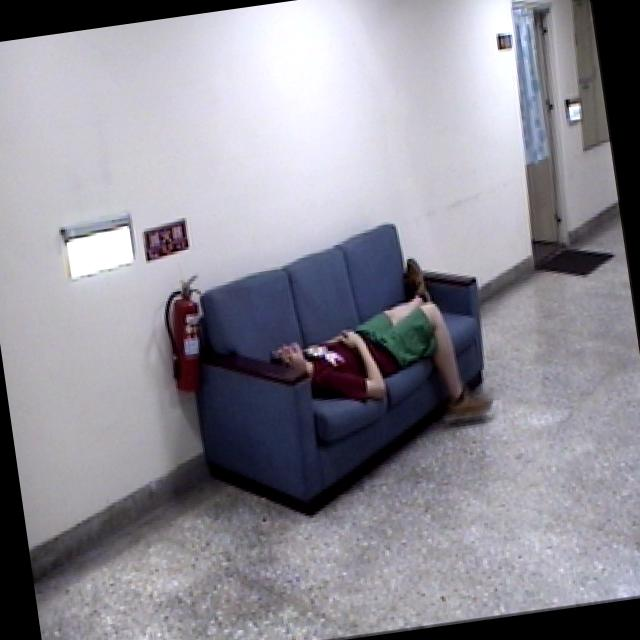lie: (248, 251, 502, 446)
